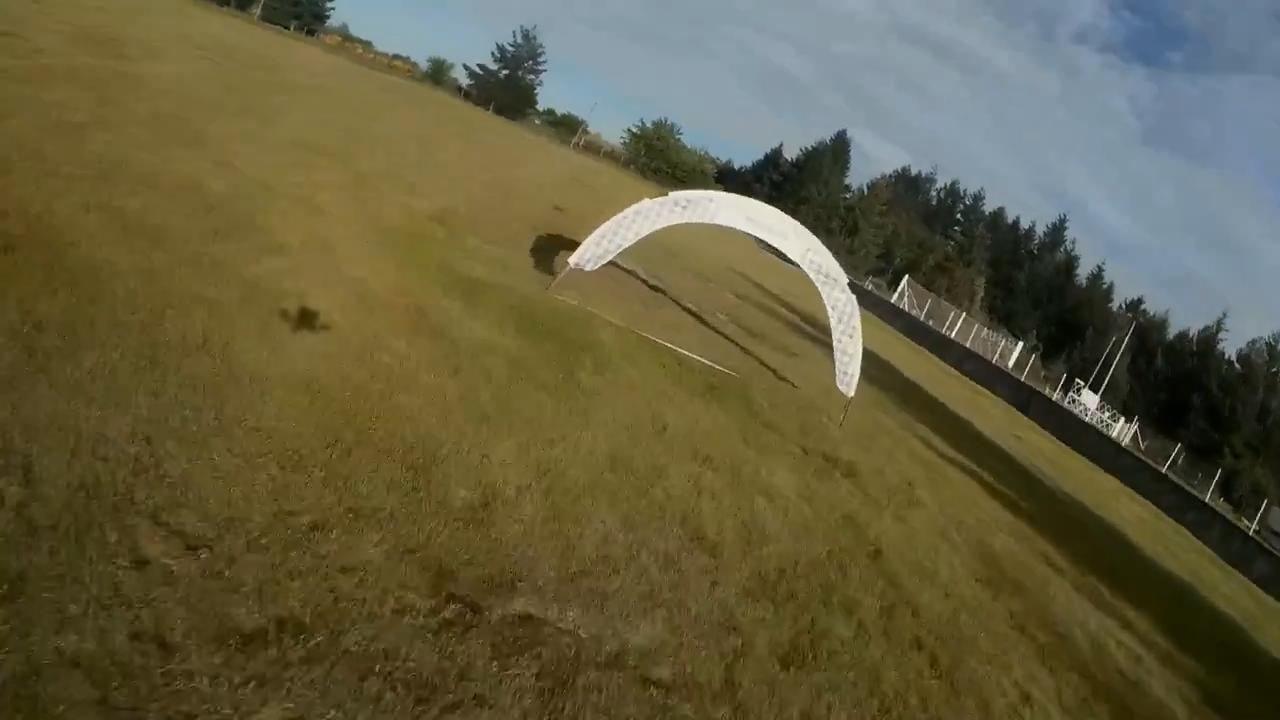gate: (562, 188, 862, 397)
